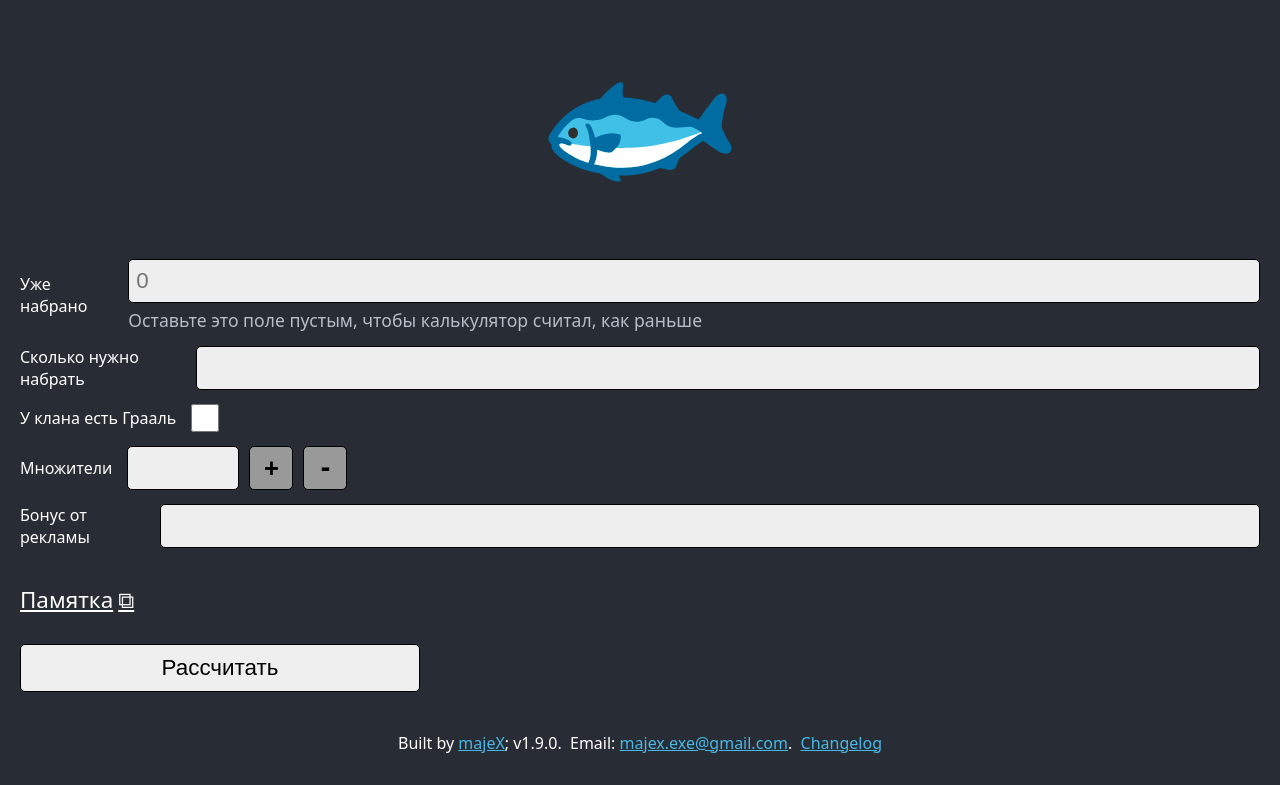
Scenario: grail toggle keeps the two multiplier lists separate
Type "10" into the number field named "Множитель 1" at {"x": 183, "y": 468}, box [127,446,239,490]
Click the button "+" at {"x": 271, "y": 468}, box [249,446,293,490]
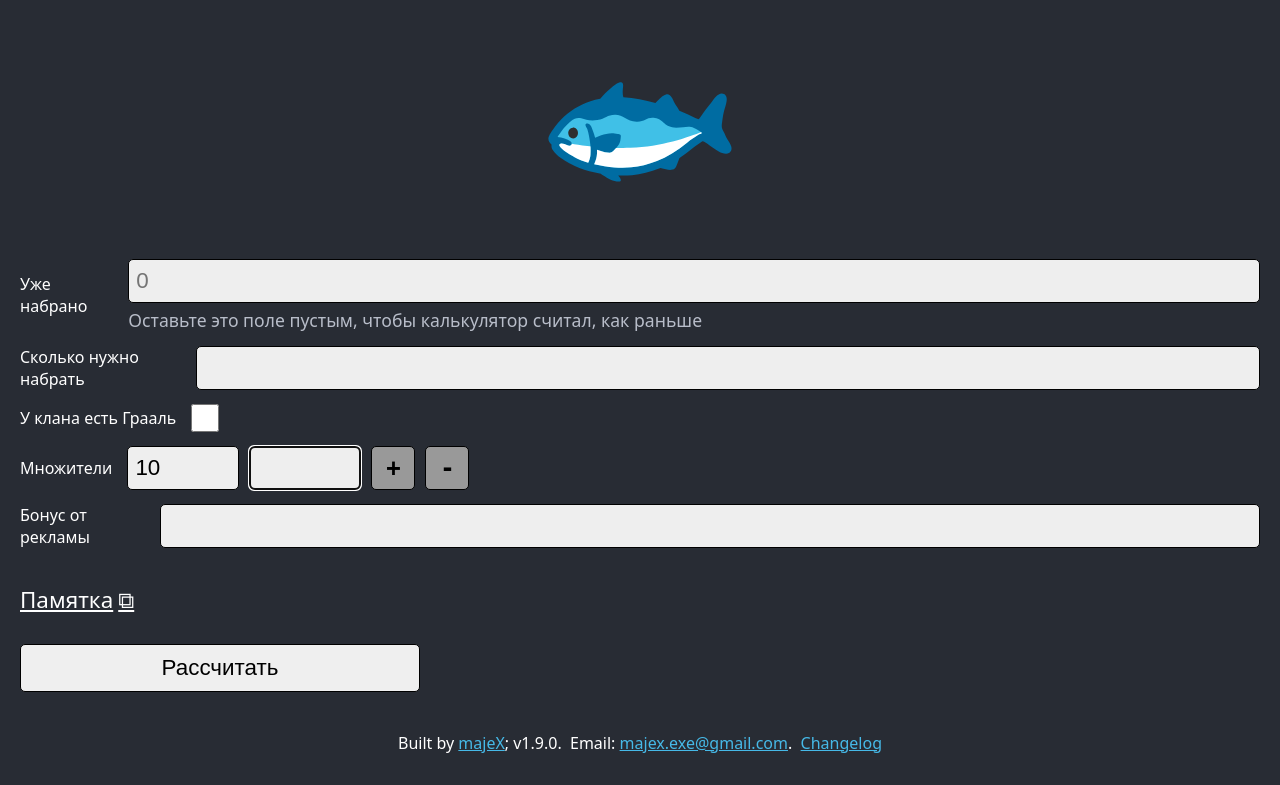
Type "20" into the number field named "Множитель 2" at {"x": 305, "y": 468}, box [249,446,361,490]
Click the button "+" at {"x": 393, "y": 468}, box [371,446,415,490]
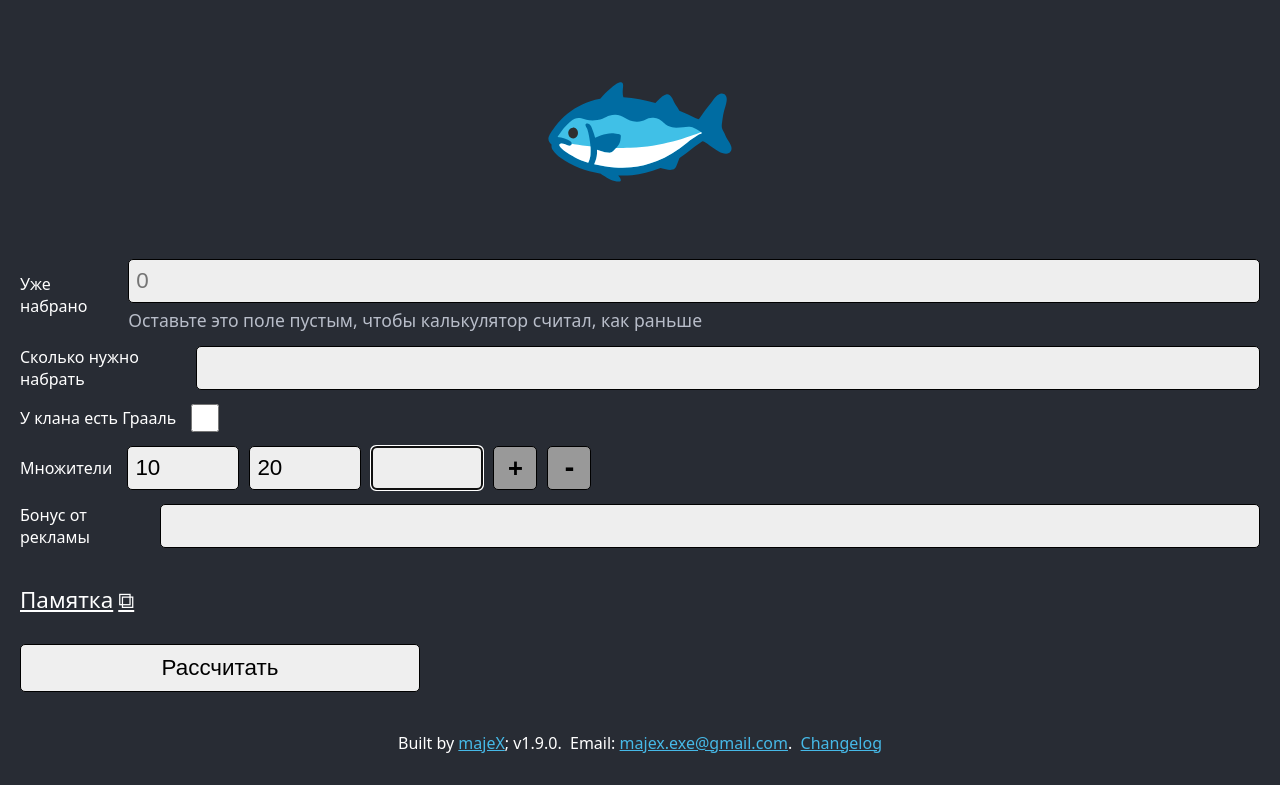
Type "30" into the number field named "Множитель 3" at {"x": 427, "y": 468}, box [371,446,483,490]
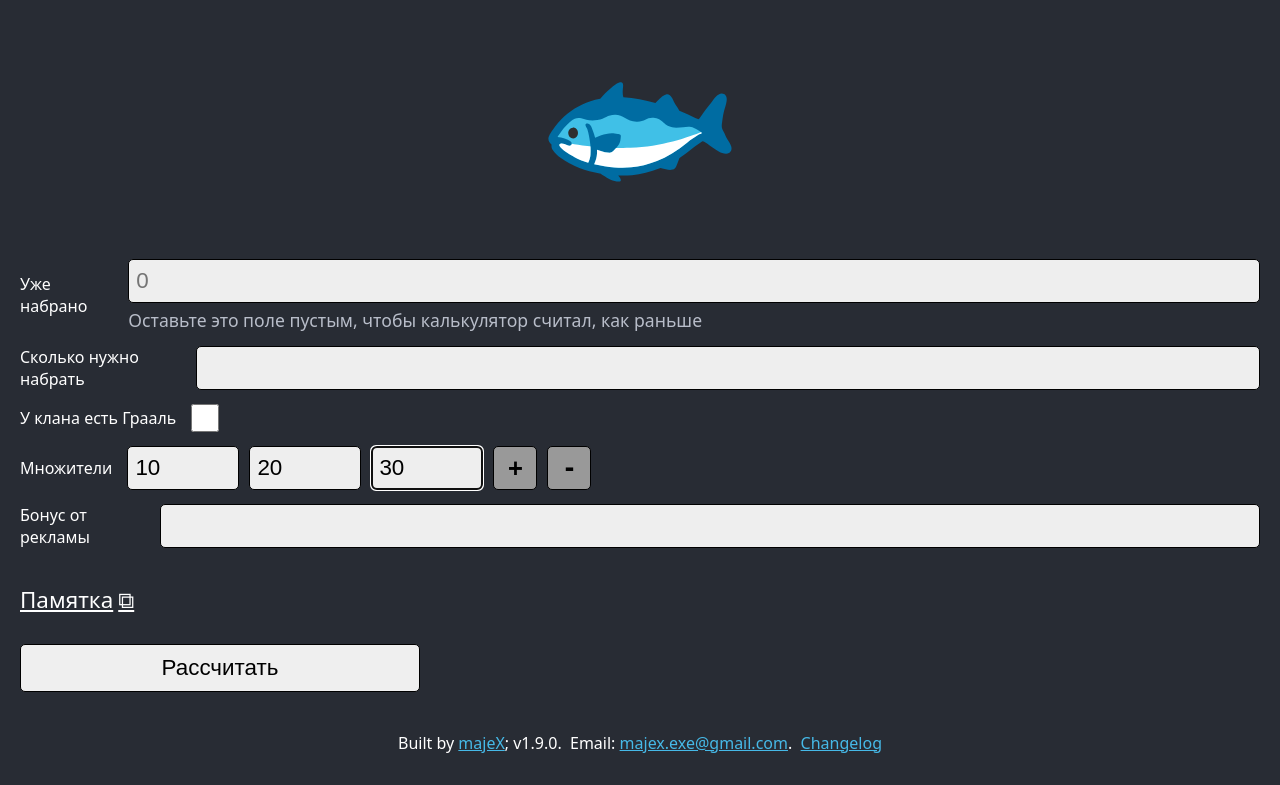
Click the checkbox labelled "У клана есть Грааль" at {"x": 205, "y": 418}, box [191,404,219,432]
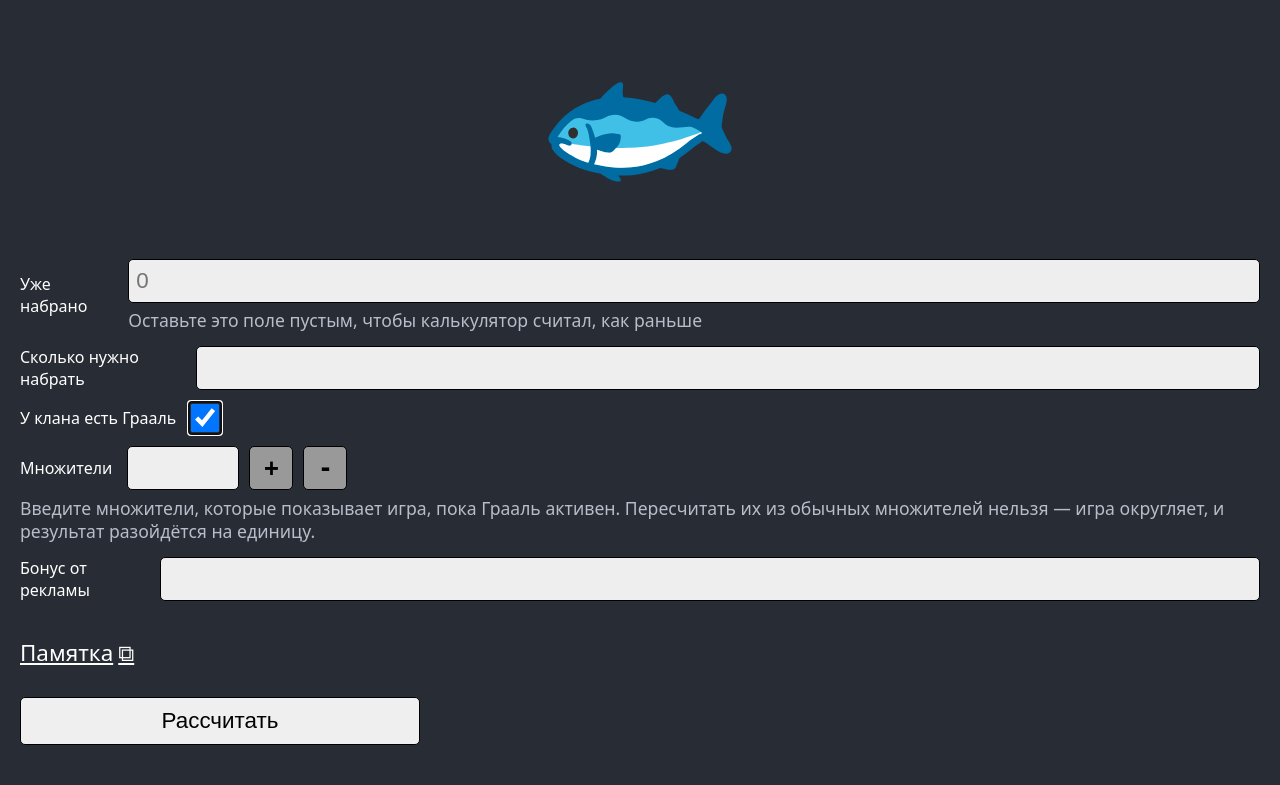
Expected: the number field named "Множитель 1" is not empty
Expected: the text "Введите множители, которые показывает игра" is shown, [20,496,1224,543]
Type "99" into the number field named "Множитель 1" at {"x": 183, "y": 468}, box [127,446,239,490]
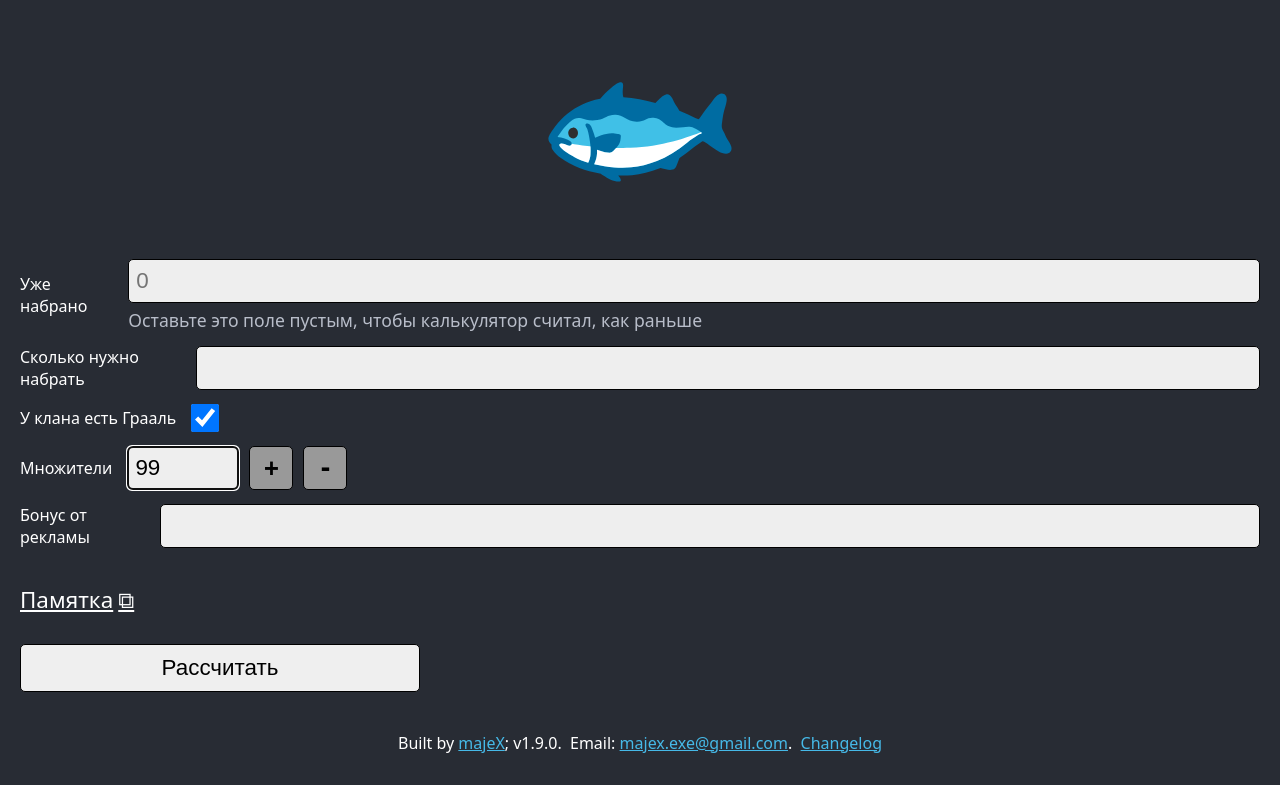
Expected: the text "Введите множители, которые показывает игра" is gone
Click the checkbox labelled "У клана есть Грааль" at {"x": 205, "y": 418}, box [191,404,219,432]
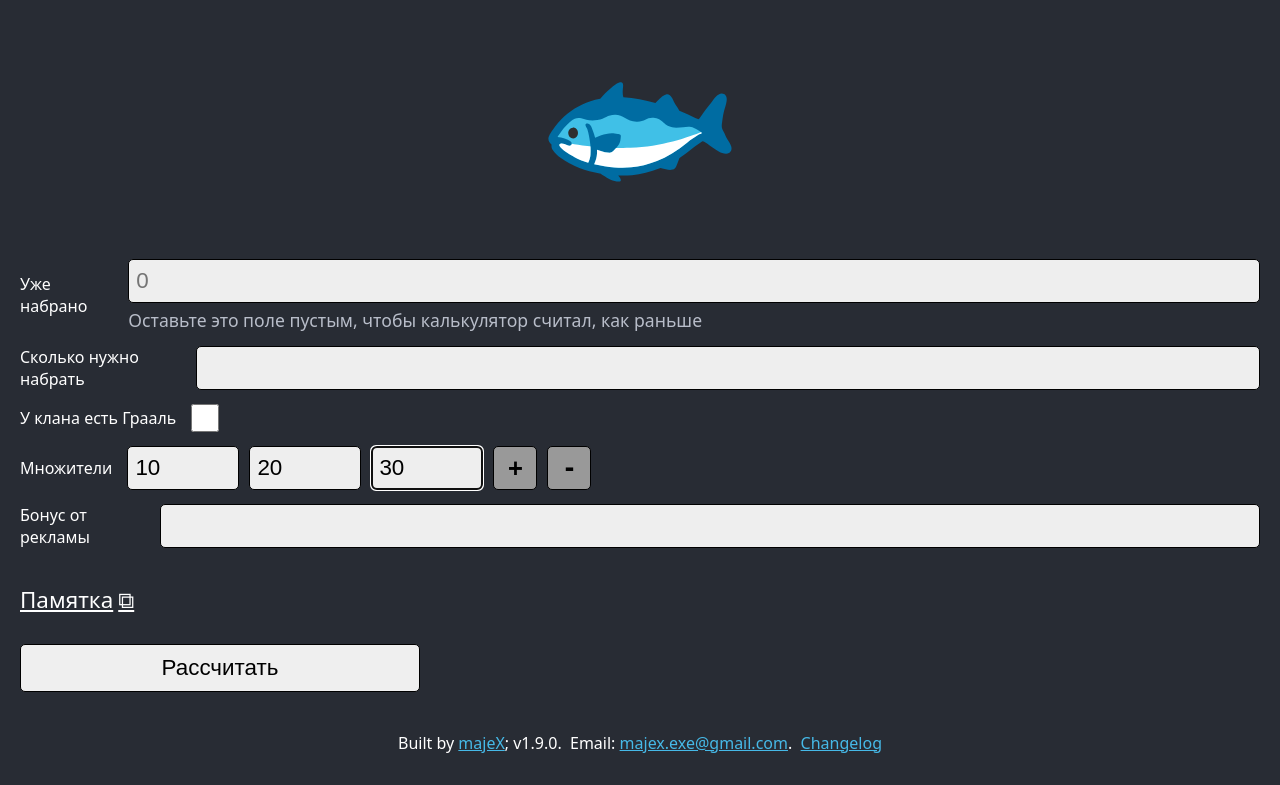
Expected: the number field named "Множитель 2" holds "20", [249,446,361,490]
Expected: the number field named "Множитель 3" holds "30", [371,446,483,490]
